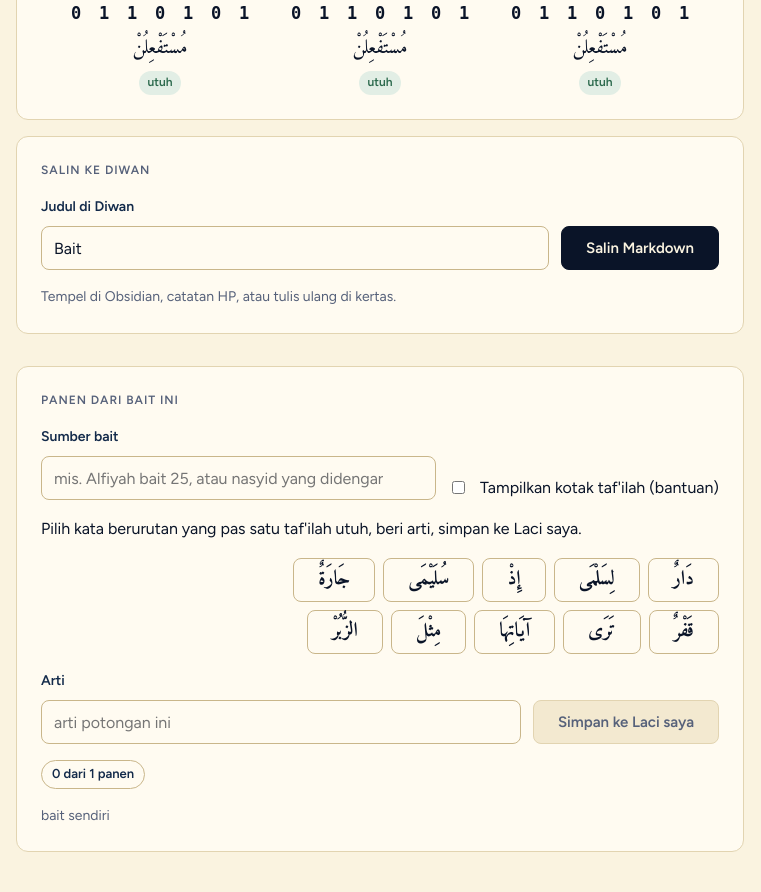
Scenario: panen dari bait sendiri di alat timbang (spec 077) › bait yang ditempel bisa dipanen; kotak taf'ilah tersembunyi kecuali diminta
The image size is (761, 892).
(page scrolled)
Click the checkbox labelled "Tampilkan kotak taf'ilah (bantuan)" at (458, 487), box 452,481 -> 465,494
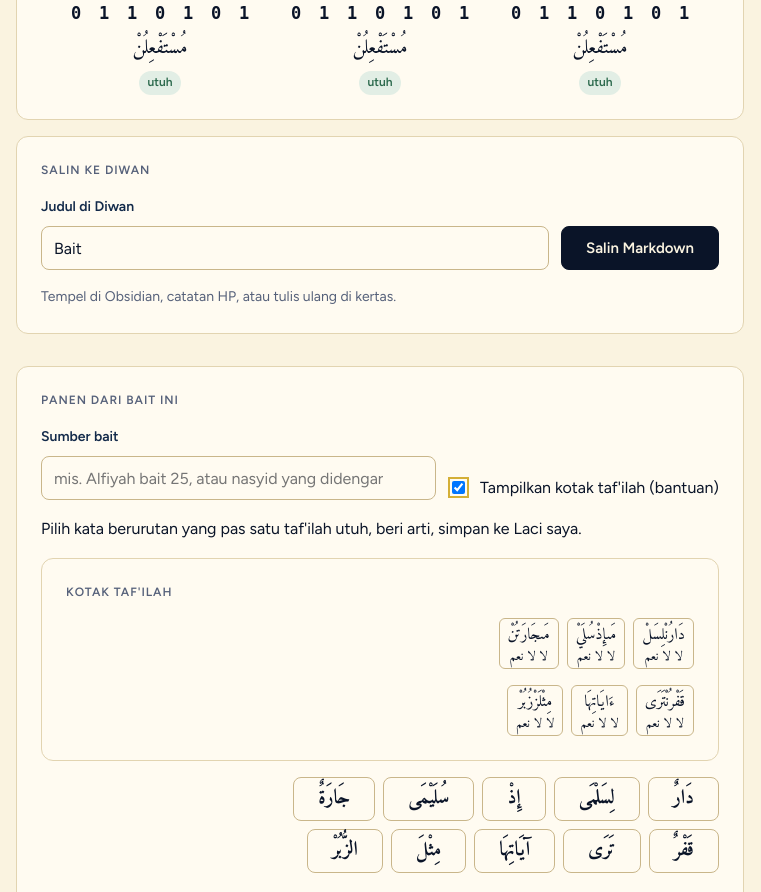
Now the element "Kotak taf'ilah" is shown, box 41,558 -> 719,761
Click the button "دَارٌ" at (683, 799), box 648,777 -> 719,821
(page scrolled)
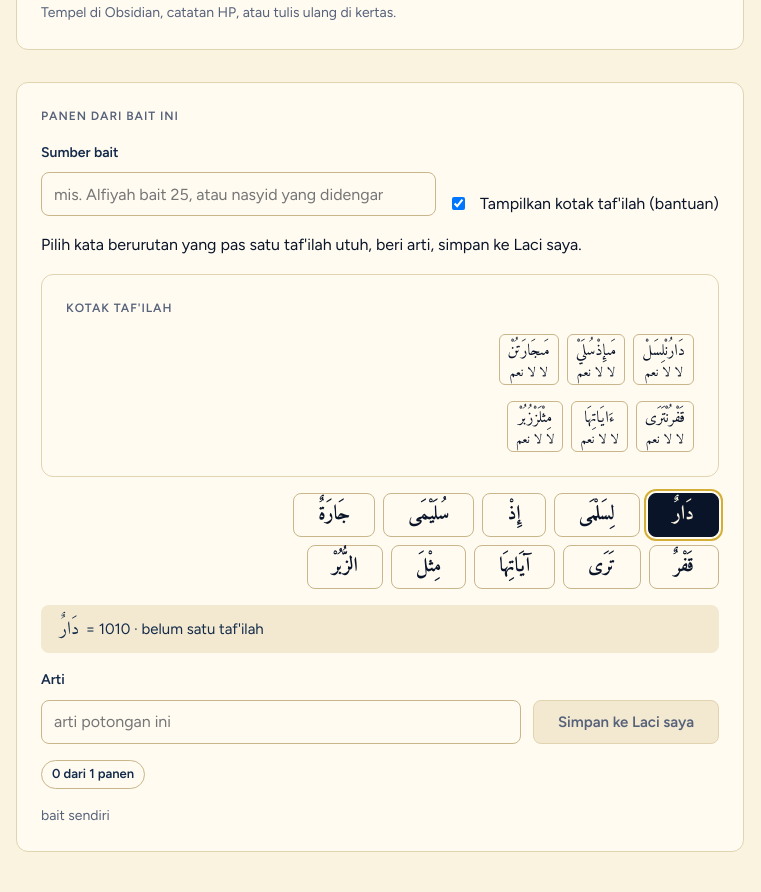
Now the element "Panen dari bait ini" shows "belum satu taf'ilah", box 99,620 -> 264,638
